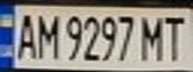2: (81, 11, 103, 62)
7: (115, 11, 139, 62)
9: (60, 10, 84, 61), (100, 11, 121, 62)
A: (12, 9, 39, 60)
M: (139, 11, 169, 62), (33, 9, 60, 61)
T: (160, 11, 190, 62)
